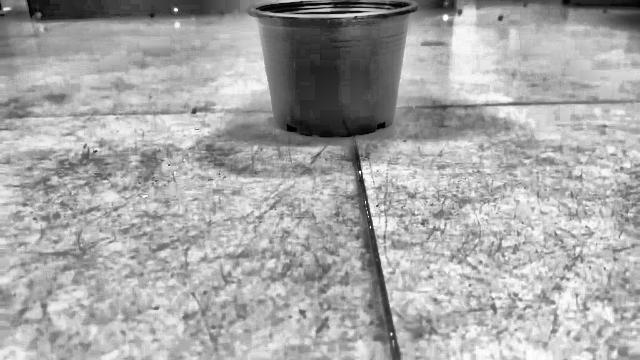pot: (249, 0, 418, 137)
